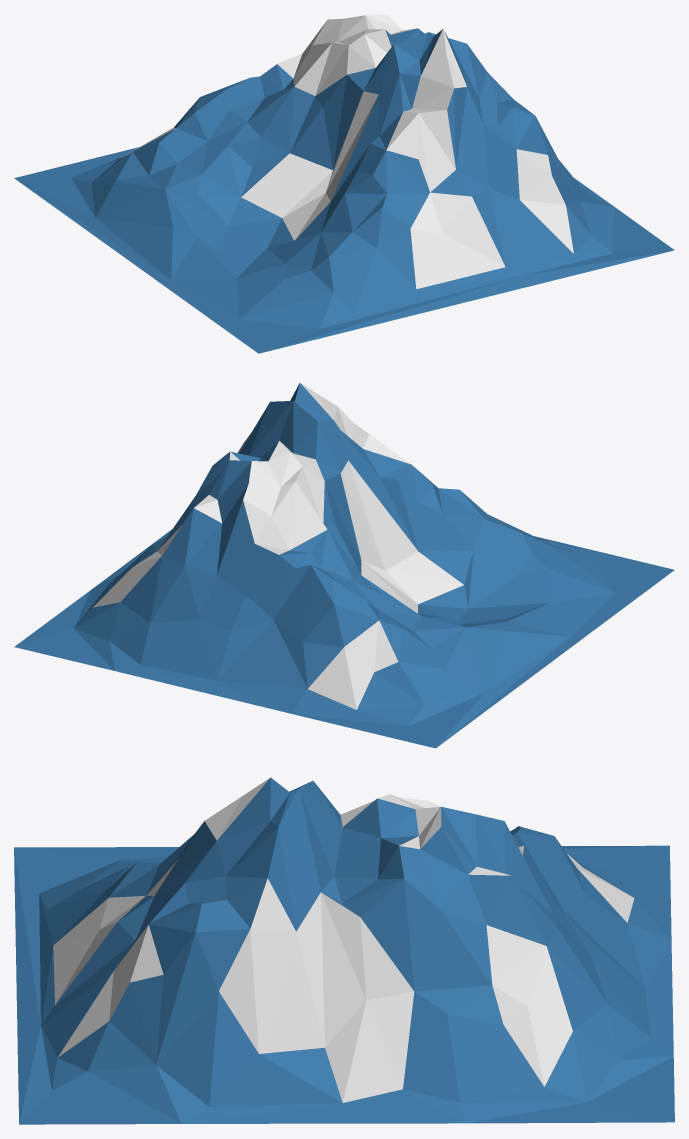
The model's file is mountain 3.fbx.
3 views of the same model, one above another, from view 1: azimuth 30°, elevation 25°; view 2: azimuth 150°, elevation 25°; view 3: azimuth 270°, elevation 25° (orthographic). The views are drawn at different scales.
Visible parts, largest first — view 1: Landscape.002; view 2: Landscape.002; view 3: Landscape.002.
Boxes of the visible parts, left/top/right/bottom form: Landscape.002: left=14, top=14, right=674, bottom=353; Landscape.002: left=14, top=383, right=674, bottom=748; Landscape.002: left=14, top=777, right=674, bottom=1124.
Size of the model in its own units: 111 by 47.26 by 111.
